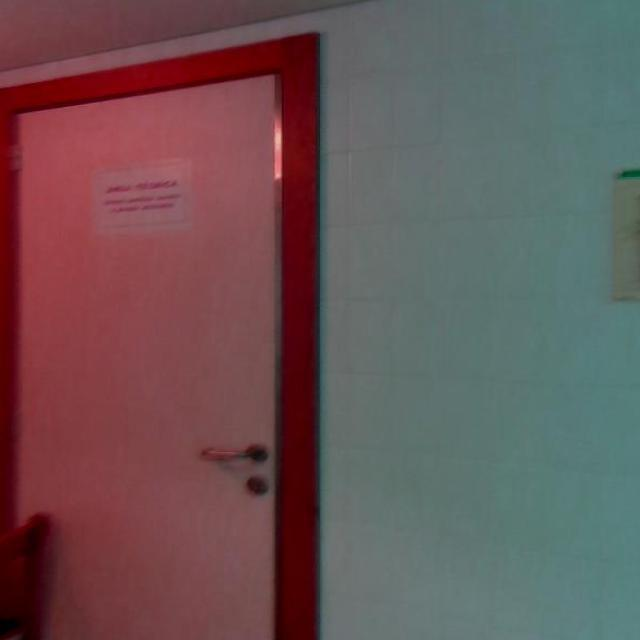door: (1, 35, 328, 640)
